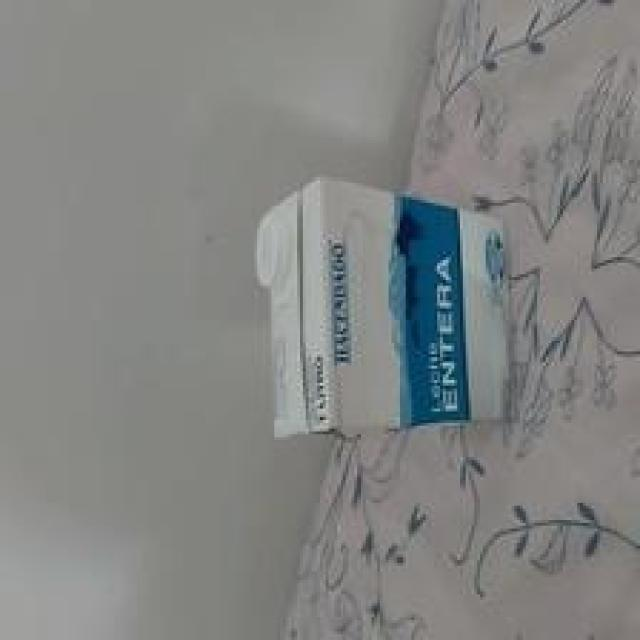PaperCardboard: (257, 175, 518, 433)
